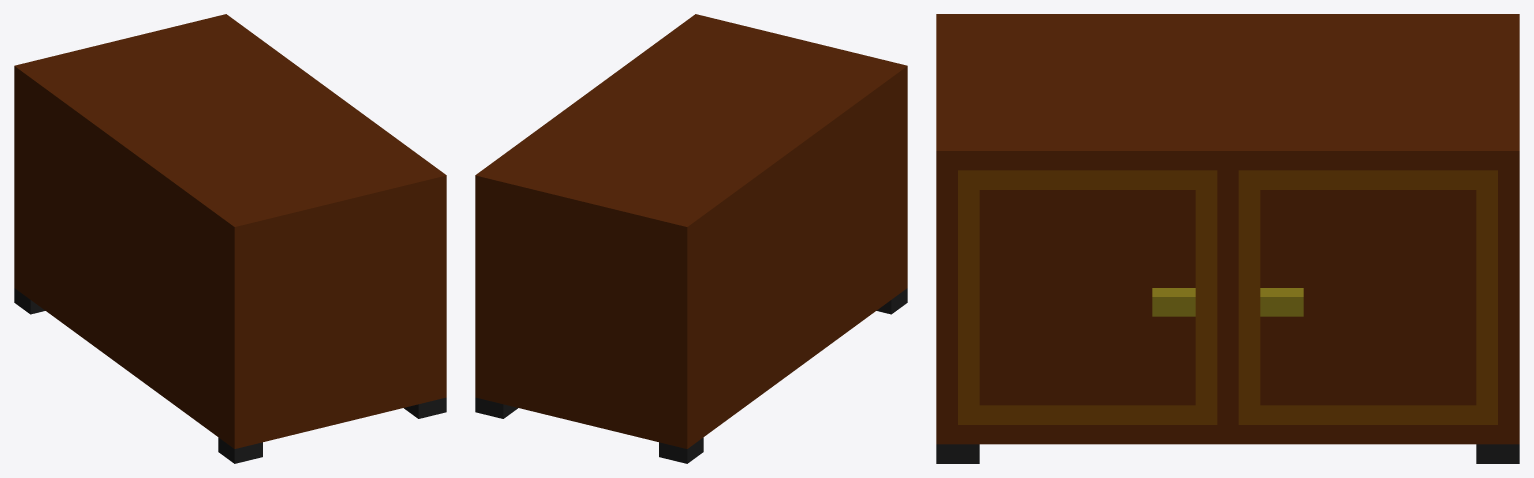
Rendered from Cabinet01.gltf.
The picture shows the model from 3 angles, left to right: view 1: azimuth 30°, elevation 25°; view 2: azimuth 150°, elevation 25°; view 3: azimuth 270°, elevation 25°; orthographic projection. The views are drawn at different scales.
Visible parts, largest first — view 1: Frame; view 2: Frame; view 3: Frame, DoorL, DoorR.
Part boxes in pixels (x1=…): Frame: x1=14, y1=14, x2=446, y2=463; Frame: x1=475, y1=14, x2=907, y2=463; Frame: x1=936, y1=14, x2=1519, y2=463; DoorL: x1=958, y1=170, x2=1217, y2=424; DoorR: x1=1238, y1=170, x2=1497, y2=424.
Bounding box in the file's own units: 16 × 16 × 27.
